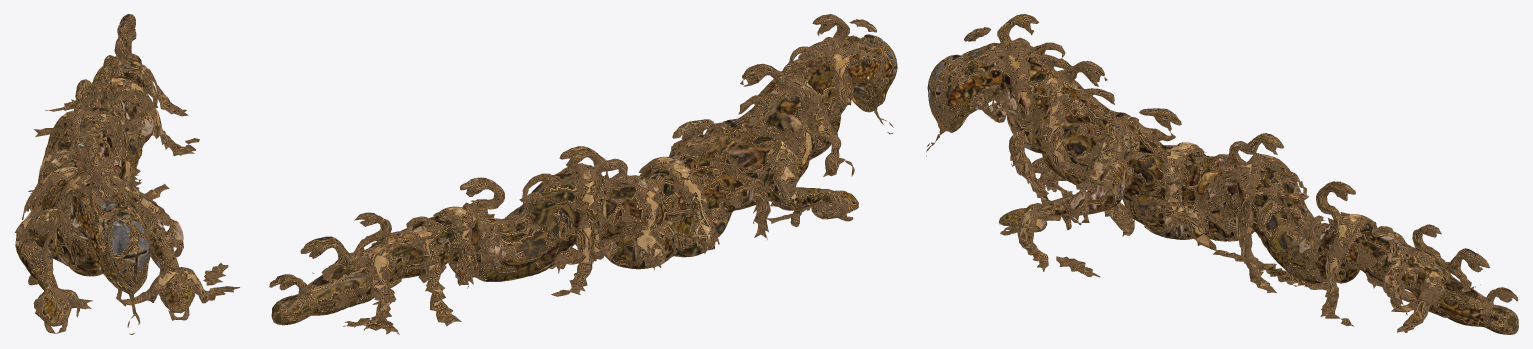
Rendered from serpente.glb.
The picture shows the model from 3 angles, left to right: view 1: azimuth 30°, elevation 25°; view 2: azimuth 150°, elevation 25°; view 3: azimuth 270°, elevation 25°; orthographic projection. The views are drawn at different scales.
Parts seen in each view (by area): view 1: world; view 2: world; view 3: world.
Part boxes in pixels (box(x1,y1,x2,y2)): world: box(15, 14, 239, 334); world: box(269, 14, 897, 334); world: box(926, 14, 1518, 334).
Size of the model in its own units: 3.28 by 1.79 by 5.18.
1 material, 1 textured.
